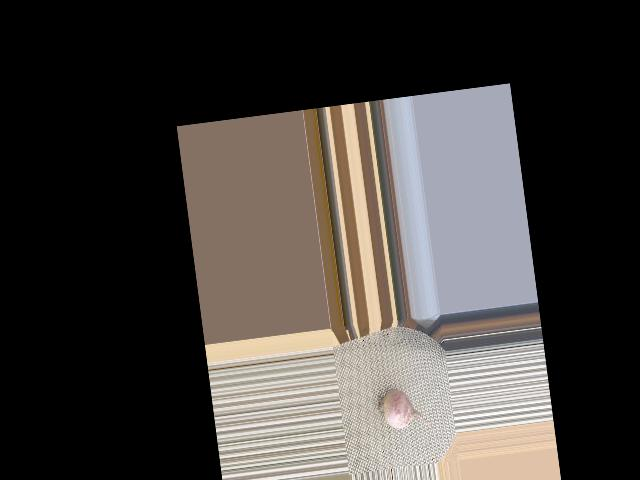beet: (375, 384, 437, 448)
